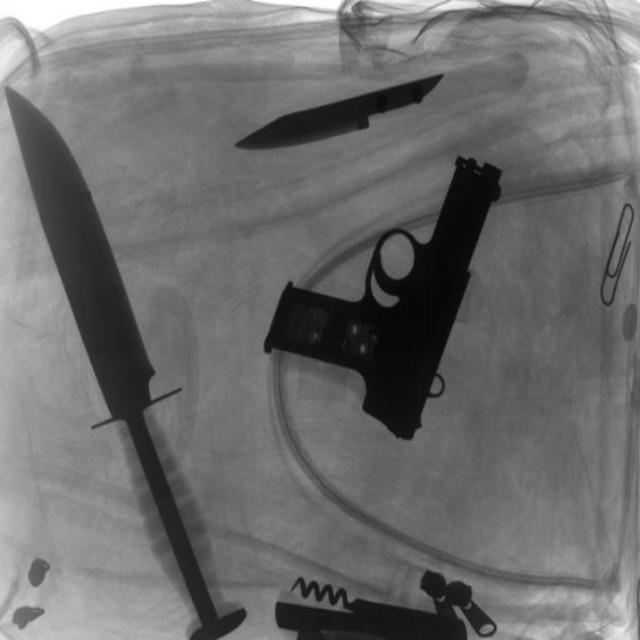GUN: (267, 154, 507, 438)
KNIFE: (25, 56, 252, 626), (232, 62, 450, 164)
